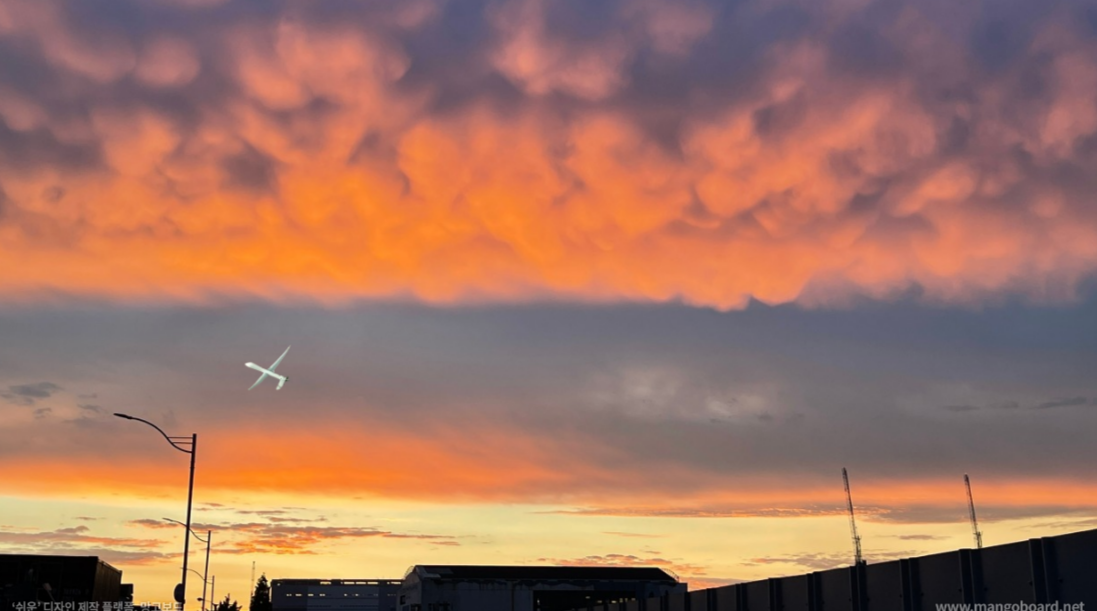military drone: (243, 343, 292, 390)
